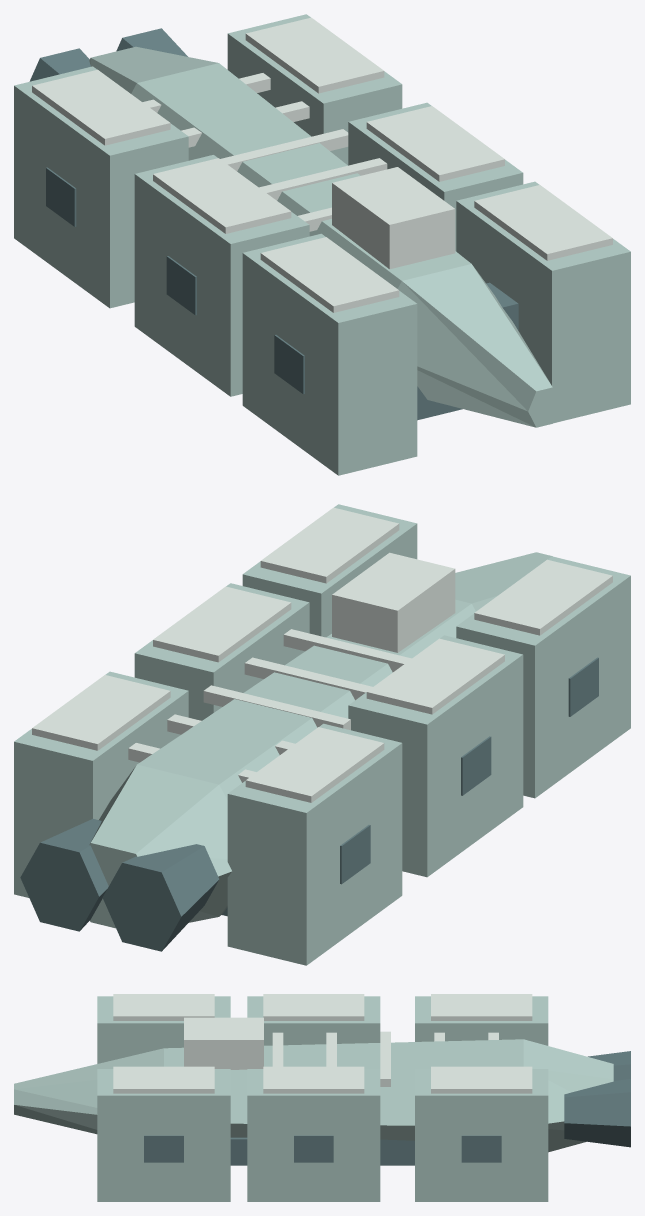
3 renders of one model, top to bottom at view 1: azimuth 30°, elevation 25°; view 2: azimuth 150°, elevation 25°; view 3: azimuth 270°, elevation 25°, orthographic. The views are drawn at different scales.
Size of the model in its own units: 3.6 by 2.06 by 9.35.
